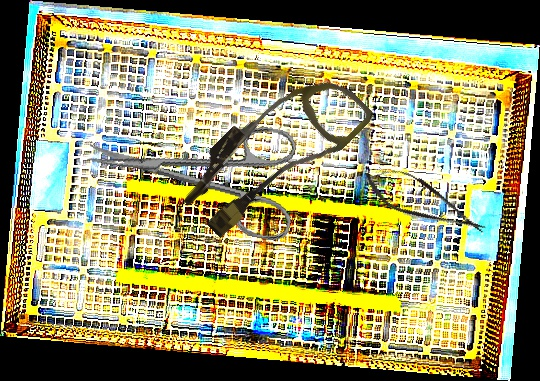Cannula: (170, 49, 377, 255)
Iris Scissors: (78, 94, 308, 244)
Micro Scissor: (356, 155, 494, 249)
